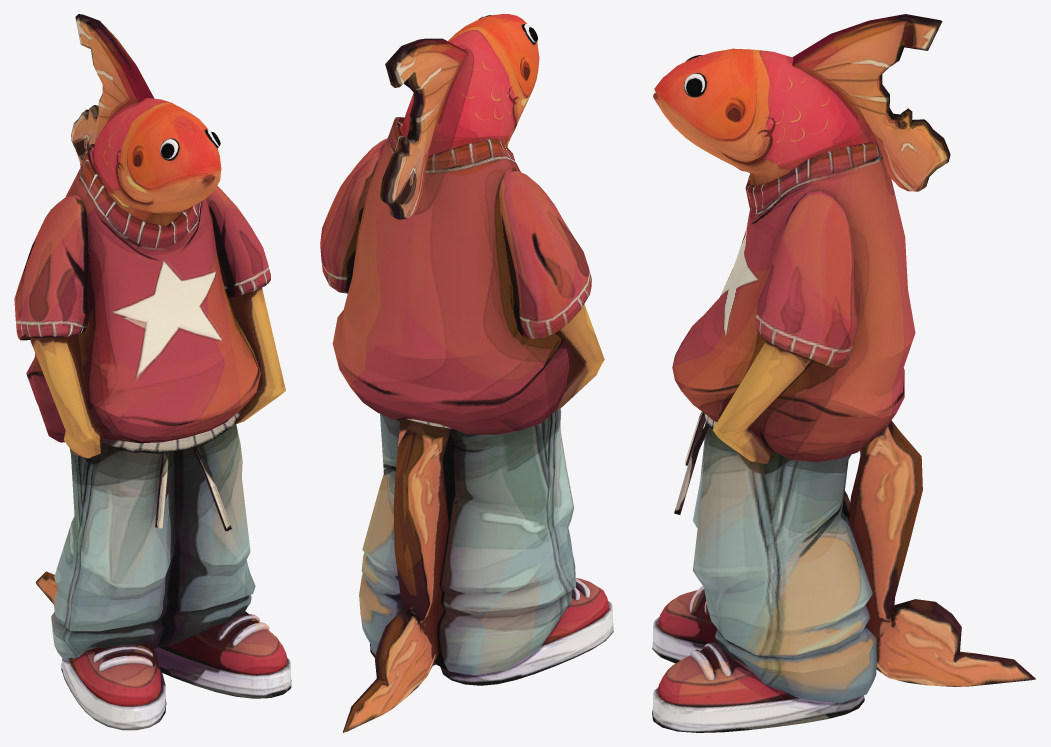
Rendered from koialone.glb.
3 views of the same model, side by side, from view 1: azimuth 30°, elevation 25°; view 2: azimuth 150°, elevation 25°; view 3: azimuth 270°, elevation 25° (orthographic). The views are drawn at different scales.
Parts seen in each view (by area): view 1: Cube.023_2, Cylinder.009_4, Cube.024_3, Cube.022_1, Cylinder.010_6, Cube.025_5, Cube.026_7, Plane.015_15, Cube.027_12, Cylinder.011_8, Cube.028_14; view 2: Cube.023_2, Cylinder.009_4, Plane.014_13, Cube.024_3, Cube.022_1, Plane.015_15, Cube.026_7, Cylinder.010_6, Cube.025_5; view 3: Cylinder.009_4, Cube.023_2, Cube.022_1, Plane.014_13, Cube.024_3, Plane.015_15, Cube.025_5, Cube.026_7, Cylinder.010_6, Cube.027_12, Cube.028_14.
Boxes of the visible parts, x1,y1,x2,y2 form: Cube.023_2: [26, 144, 260, 443]; Cylinder.009_4: [51, 422, 255, 659]; Cube.024_3: [14, 185, 270, 340]; Cube.022_1: [91, 98, 221, 225]; Cylinder.010_6: [30, 288, 285, 458]; Cube.025_5: [69, 611, 287, 706]; Cube.026_7: [61, 647, 291, 730]; Plane.015_15: [71, 14, 154, 167]; Cube.027_12: [93, 614, 269, 671]; Cylinder.011_8: [101, 410, 240, 453]; Cube.028_14: [155, 445, 231, 531]; Cube.023_2: [332, 117, 573, 434]; Cylinder.009_4: [359, 408, 575, 674]; Plane.014_13: [343, 419, 450, 732]; Cube.024_3: [320, 138, 591, 338]; Cube.022_1: [401, 14, 539, 155]; Plane.015_15: [380, 38, 468, 219]; Cube.026_7: [370, 600, 613, 685]; Cylinder.010_6: [555, 304, 604, 409]; Cube.025_5: [541, 578, 609, 645]; Cylinder.009_4: [692, 422, 876, 703]; Cube.023_2: [672, 141, 915, 462]; Cube.022_1: [653, 48, 875, 185]; Plane.014_13: [848, 420, 1035, 686]; Cube.024_3: [755, 190, 858, 368]; Plane.015_15: [792, 14, 950, 191]; Cube.025_5: [657, 590, 798, 707]; Cube.026_7: [652, 617, 864, 732]; Cylinder.010_6: [712, 341, 813, 463]; Cube.027_12: [689, 586, 731, 680]; Cube.028_14: [674, 411, 708, 514].
Size of the model in its own units: 2.7 by 6.6 by 3.43.
1 material, 1 textured.
